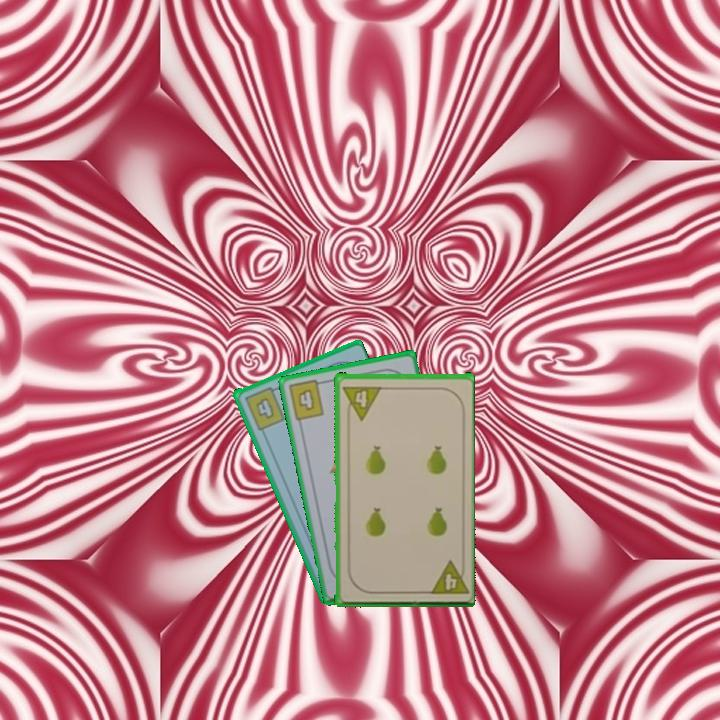4b: (240, 383, 287, 433), (284, 377, 328, 423)
4p: (424, 557, 469, 597), (339, 382, 383, 422)
